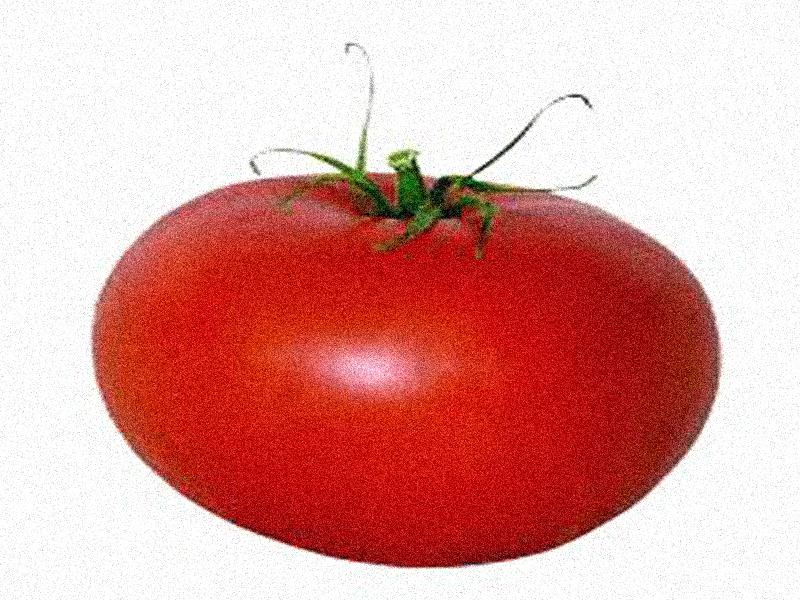Tomato: (87, 170, 718, 565)
